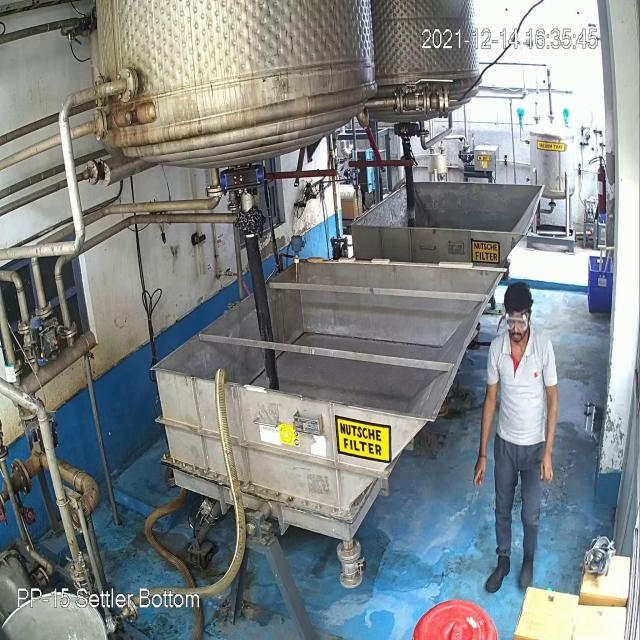No_Gloves: (27, 108, 550, 434)
